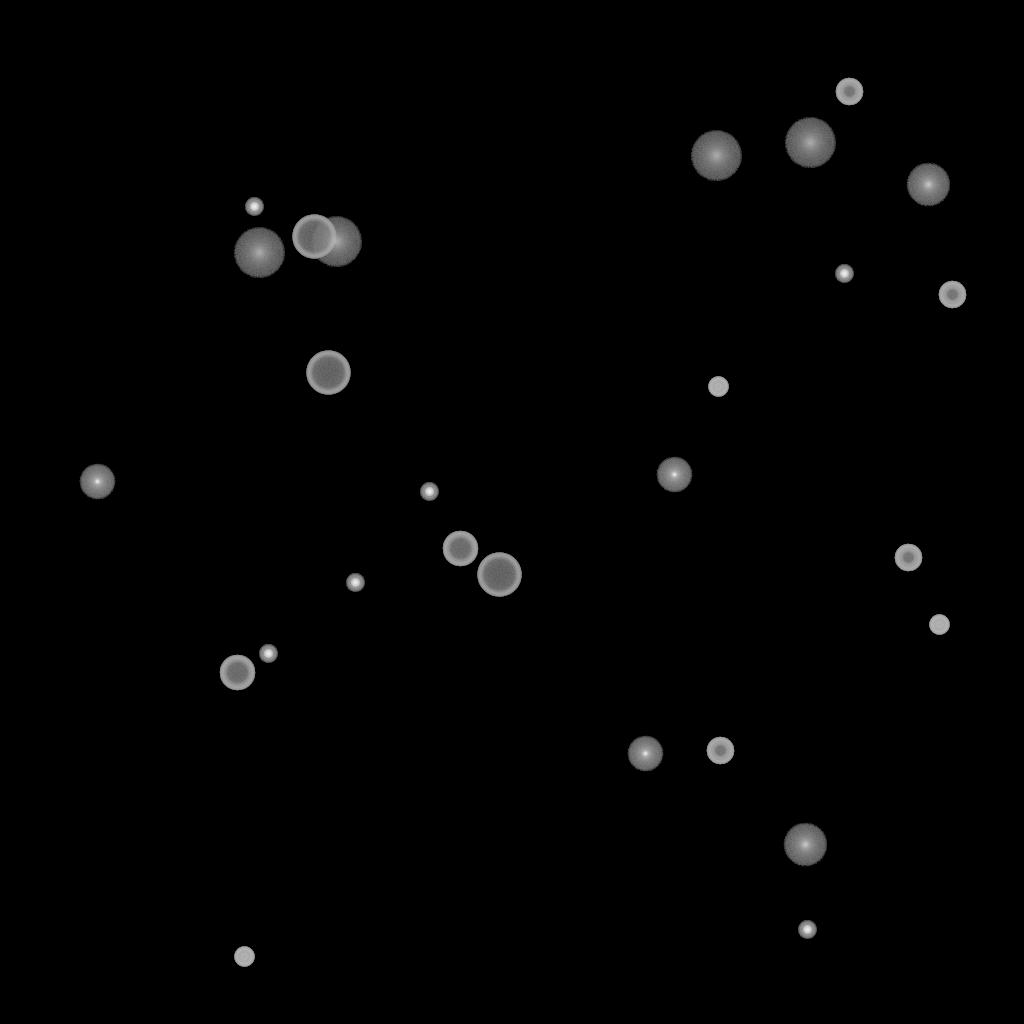depth:-20: (798, 921, 816, 939), (835, 265, 853, 283), (420, 483, 438, 501), (259, 645, 277, 663), (245, 198, 263, 216), (346, 574, 364, 592)
depth:-40: (234, 947, 254, 967), (708, 377, 728, 397), (929, 615, 949, 635)
depth:-50: (835, 78, 863, 106), (706, 737, 734, 765), (938, 281, 966, 309), (894, 544, 922, 572)
depth:-60: (219, 655, 255, 691), (442, 531, 478, 567)
depth:-70: (306, 351, 350, 395), (292, 215, 336, 259), (477, 553, 521, 597)
depth:0: (627, 736, 663, 772), (656, 457, 692, 493), (79, 464, 115, 500)
depth:10: (906, 163, 950, 207), (783, 823, 827, 867)
depth:20: (233, 228, 285, 278), (690, 131, 742, 181), (784, 118, 836, 168), (310, 217, 362, 267)
